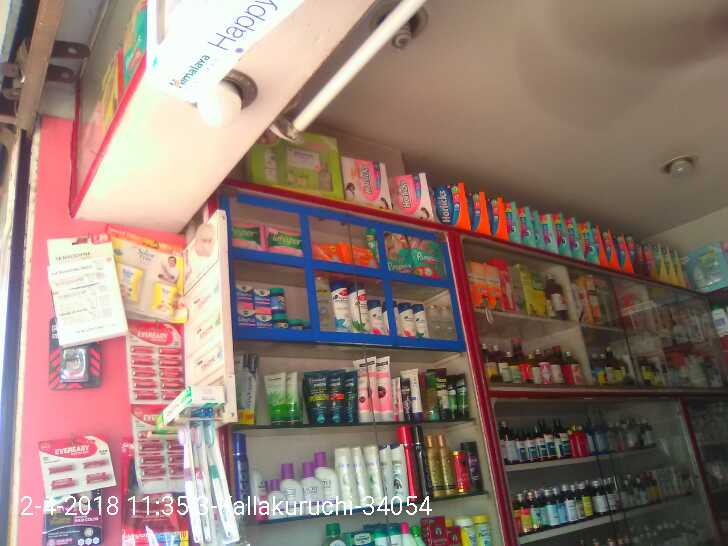vicks: (237, 286, 312, 330)
